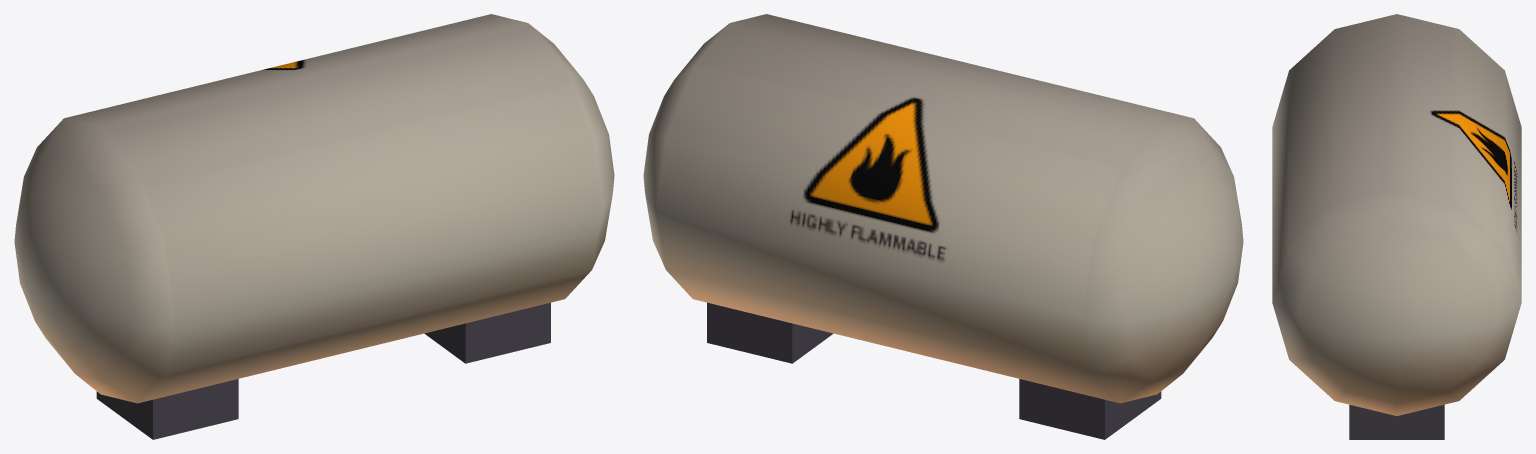
Rendered from TRF0610002.fbx.
The picture shows the model from 3 angles, left to right: view 1: azimuth 30°, elevation 25°; view 2: azimuth 150°, elevation 25°; view 3: azimuth 270°, elevation 25°; orthographic projection. The views are drawn at different scales.
Visible parts, largest first — view 1: smTRF0610002; view 2: smTRF0610002; view 3: smTRF0610002.
Boxes of the visible parts, x1,y1,x2,y2 form: smTRF0610002: (14,14,614,439); smTRF0610002: (643,14,1243,439); smTRF0610002: (1272,14,1521,439).
Bounding box in the file's own units: 610 × 315 × 283.
Materials: 1 (1 with a texture image).
